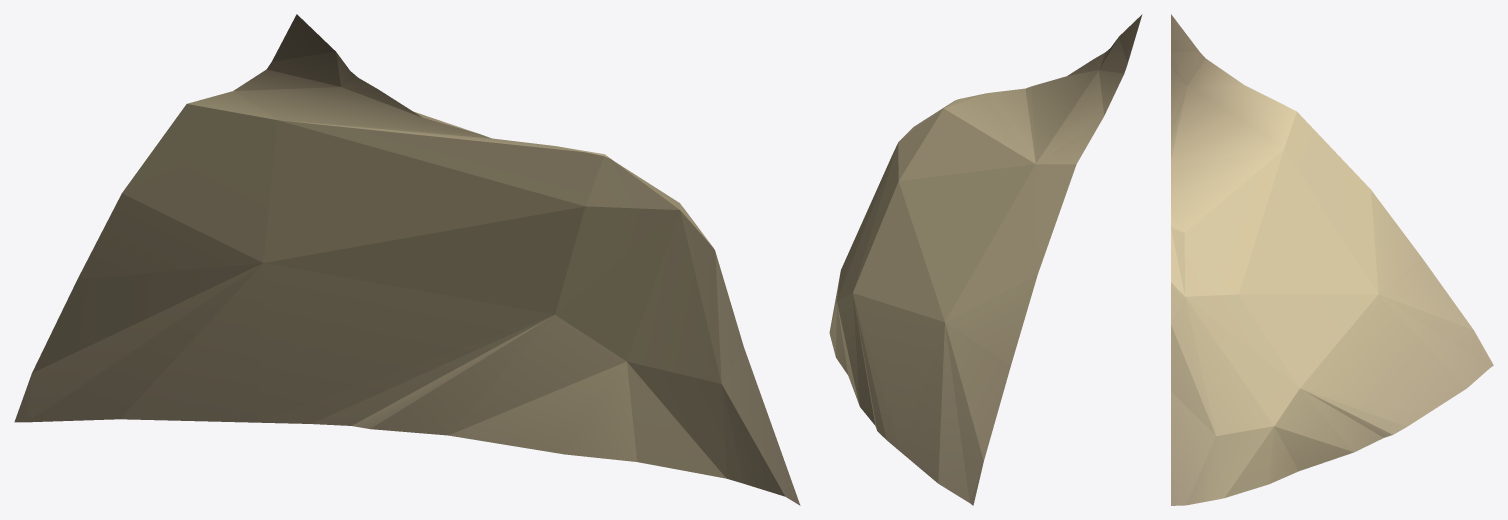
File: bisect-8-3-8.gltf
3 renders of one model, left to right at view 1: azimuth 30°, elevation 25°; view 2: azimuth 150°, elevation 25°; view 3: azimuth 270°, elevation 25°, orthographic. The views are drawn at different scales.
Parts seen in each view (by area): view 1: bisect-8-3-8; view 2: bisect-8-3-8; view 3: bisect-8-3-8.
Boxes of the visible parts, left/top/right/bottom form: bisect-8-3-8: left=14, top=14, right=800, bottom=505; bisect-8-3-8: left=829, top=14, right=1142, bottom=505; bisect-8-3-8: left=1171, top=14, right=1493, bottom=505.
Size of the model in its own units: 7.47 by 8.71 by 7.25.
